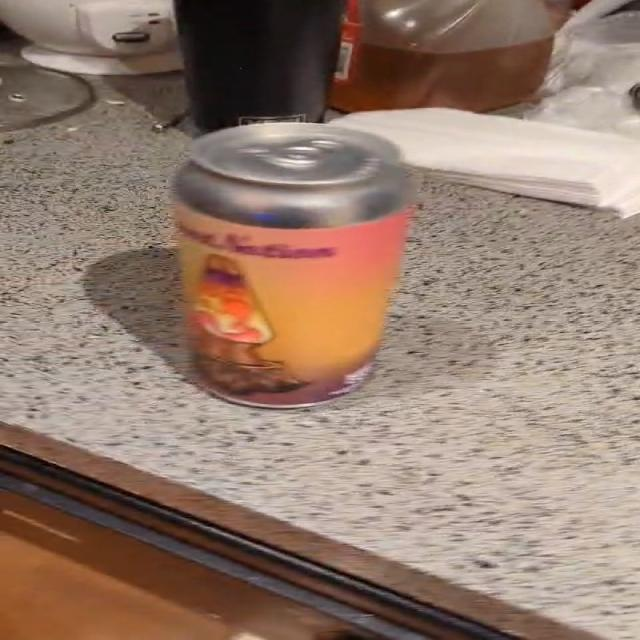metal: (173, 122, 407, 407)
